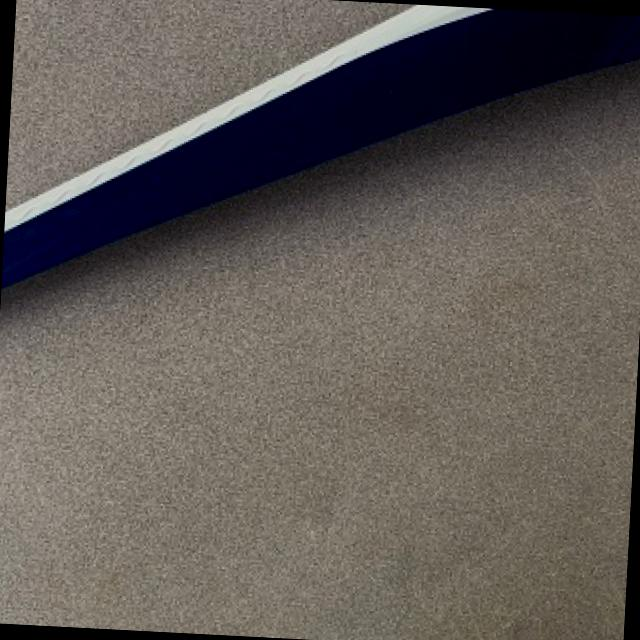healthy: (0, 61, 640, 640), (6, 0, 407, 205)
